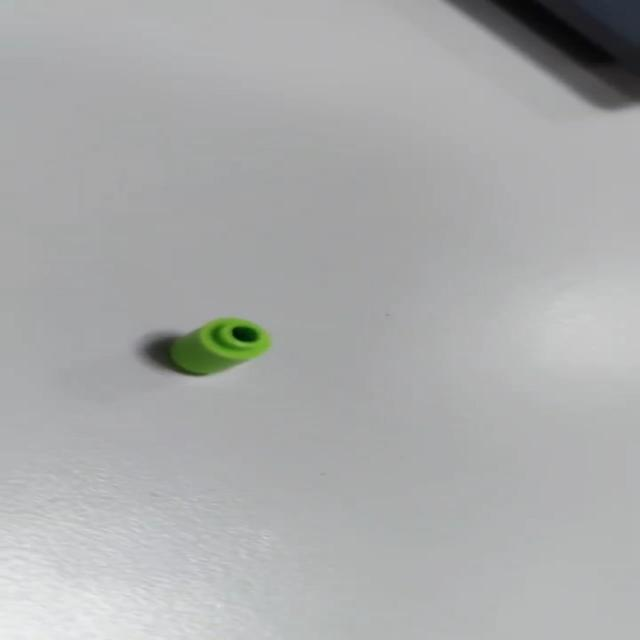S1x1x1: (142, 314, 270, 380)
